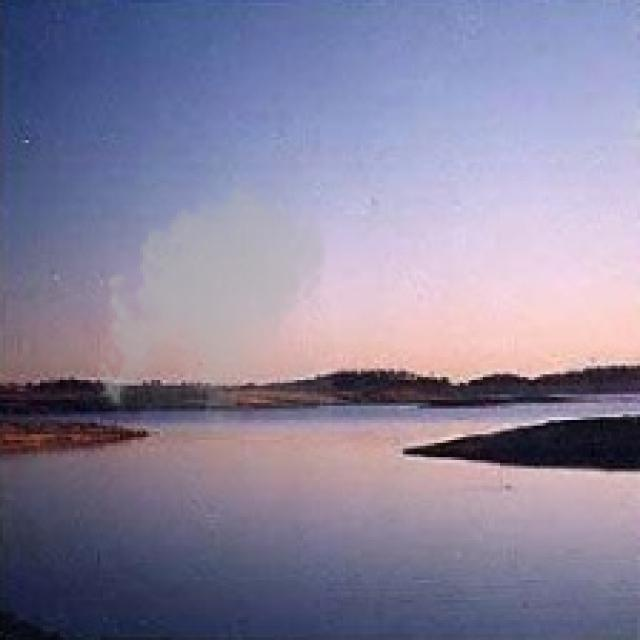smoke: (92, 172, 334, 437)
